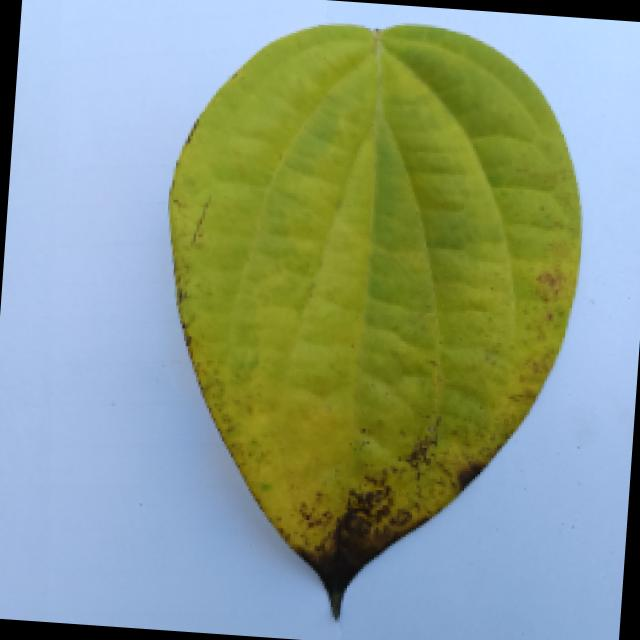slow-decline: (81, 13, 632, 640)
